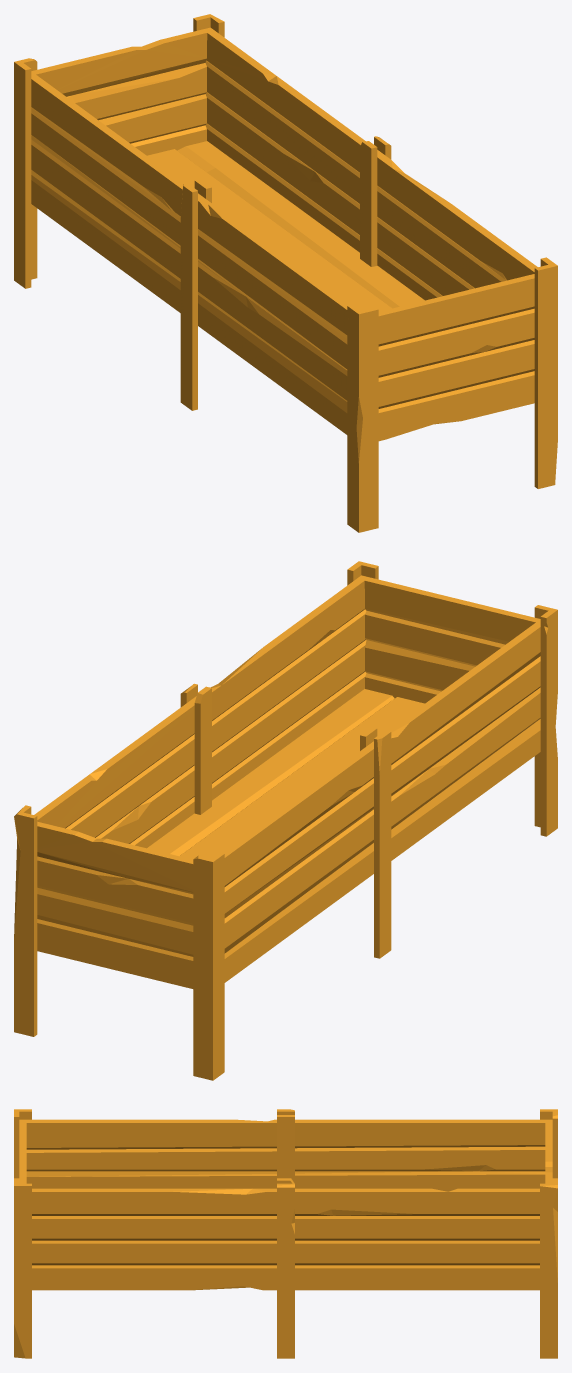
The model's file is SM_Planter_Box_1x3m_A_Farm.fbx.
3 views of the same model, one above another, from view 1: azimuth 30°, elevation 25°; view 2: azimuth 150°, elevation 25°; view 3: azimuth 270°, elevation 25° (orthographic). The views are drawn at different scales.
Parts seen in each view (by area): view 1: planter-box-1x3m-a-farm; view 2: planter-box-1x3m-a-farm; view 3: planter-box-1x3m-a-farm.
Part boxes in pixels (x1,y1,x2,y2): planter-box-1x3m-a-farm: (14, 14, 557, 532); planter-box-1x3m-a-farm: (14, 561, 557, 1080); planter-box-1x3m-a-farm: (14, 1109, 557, 1358).
Bounding box in the file's own units: 1 × 1.05 × 3.
